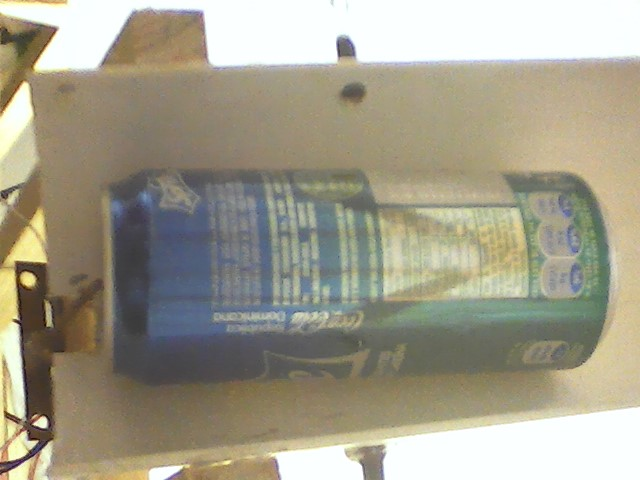lata: (97, 158, 626, 401)
